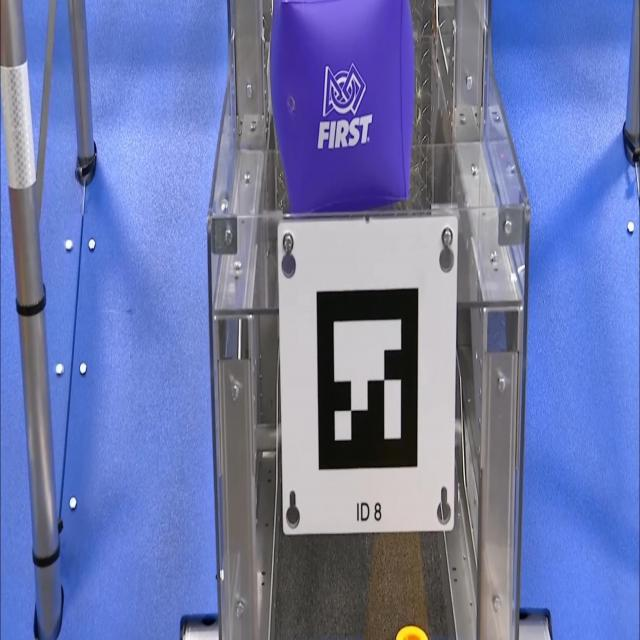frc_cone: (390, 623, 434, 640)
frc_cube: (268, 0, 418, 220)
